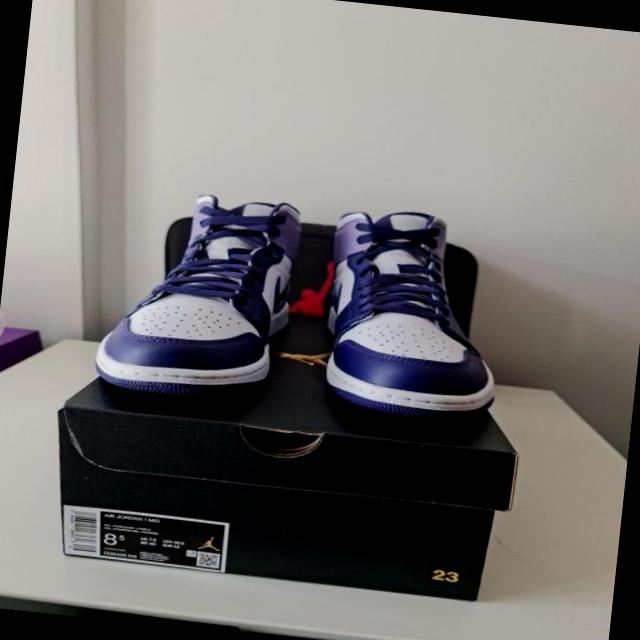nike_original_jordan: (84, 180, 306, 407), (309, 204, 517, 426)
